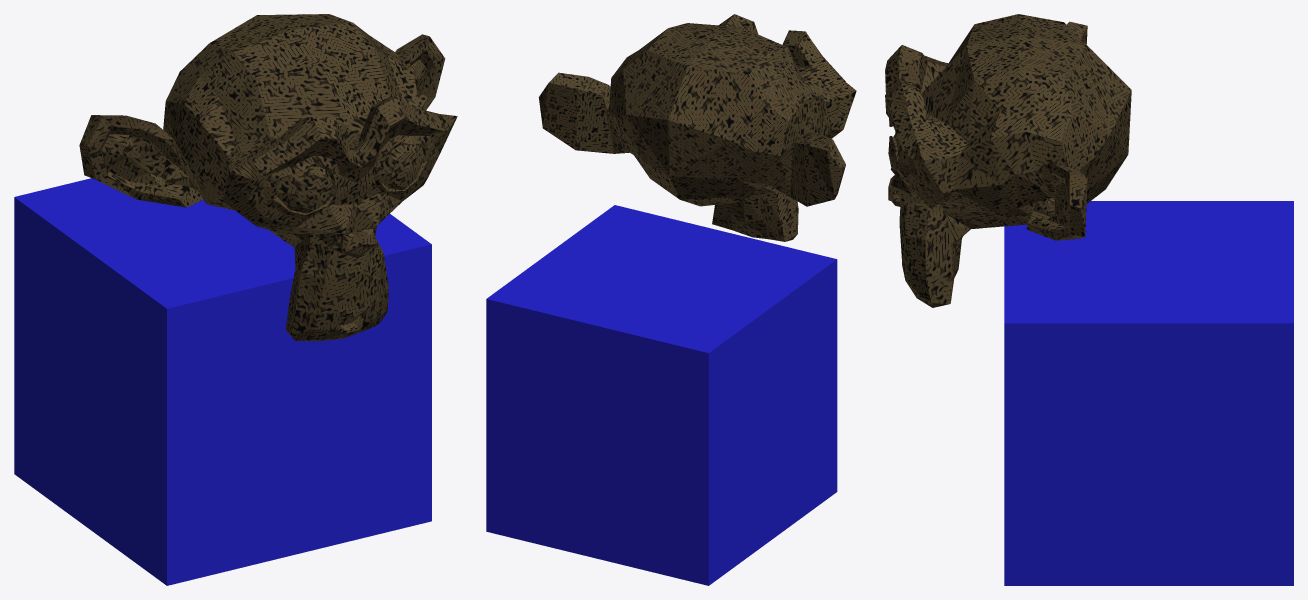
The model's file is monkey.dae.
3 renders of one model, left to right at view 1: azimuth 30°, elevation 25°; view 2: azimuth 150°, elevation 25°; view 3: azimuth 270°, elevation 25°, orthographic. The views are drawn at different scales.
Parts seen in each view (by area): view 1: Cube, Suzanne; view 2: Cube, Suzanne; view 3: Cube, Suzanne.
Boxes of the visible parts, box(x1,y1,x2,y2) form: Cube: box(14, 178, 431, 585); Suzanne: box(79, 14, 457, 341); Cube: box(486, 205, 837, 585); Suzanne: box(538, 14, 856, 241); Cube: box(1004, 201, 1293, 585); Suzanne: box(885, 14, 1131, 307).
Bounding box in the file's own units: 2.05 × 2.12 × 2.8.
2 materials, 1 textured.
